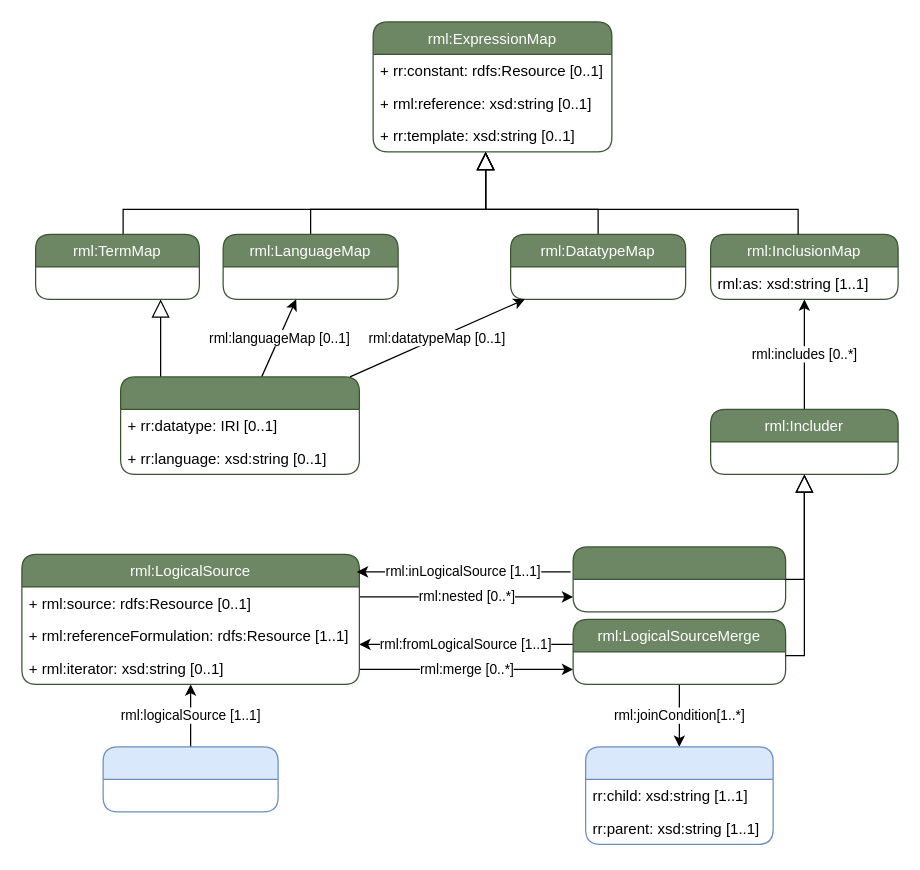
Image size: 920x870. Some labels were removed from this diagram. The shapes that lost their labels are listed below. From the top down, each one's box as (x1, y1, x2, y2) in pixels, then its label:
(119, 376, 359, 474): rml:ObjectMap
(572, 546, 786, 612): rml:LogicalSourceNesting
(102, 746, 278, 812): rr:TriplesMap
(584, 746, 773, 844): rr:Join
